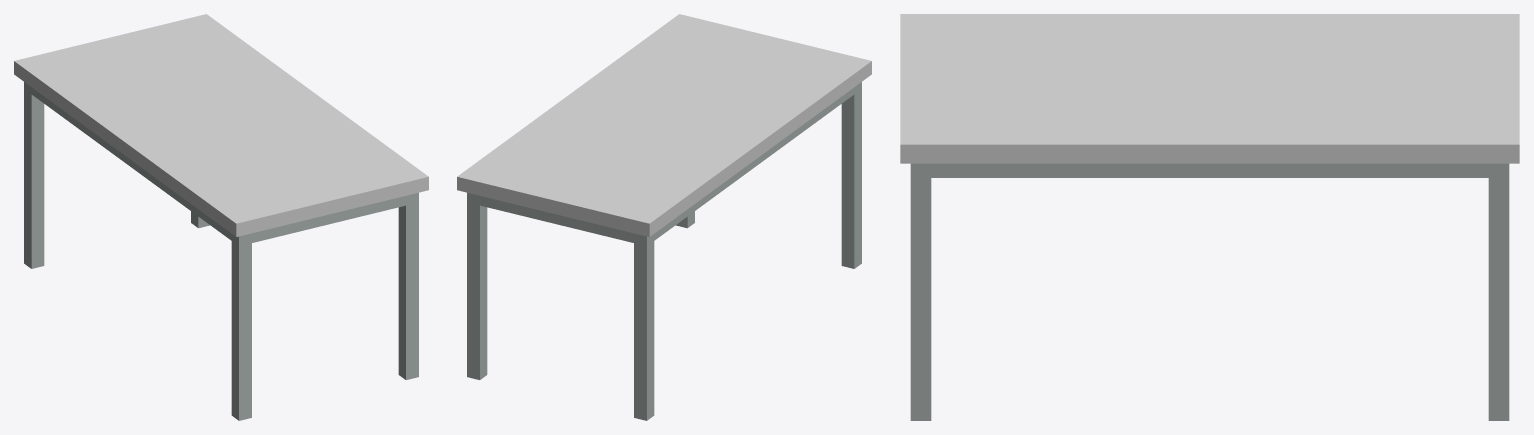
Rendered from table_05.glb.
3 renders of one model, left to right at view 1: azimuth 30°, elevation 25°; view 2: azimuth 150°, elevation 25°; view 3: azimuth 270°, elevation 25°, orthographic. The views are drawn at different scales.
Visible parts, largest first — view 1: Untitled; view 2: Untitled; view 3: Untitled.
Part boxes in pixels (left/top/right/bottom): Untitled: left=14, top=14, right=428, bottom=420; Untitled: left=457, top=14, right=871, bottom=420; Untitled: left=900, top=14, right=1519, bottom=420.
Size of the model in its own units: 0.9 by 0.9 by 1.8.
1 material, 1 textured.
